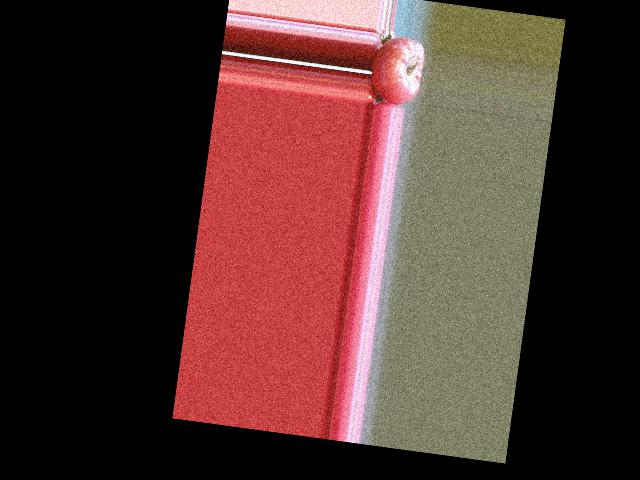tomato: (367, 33, 426, 108)
